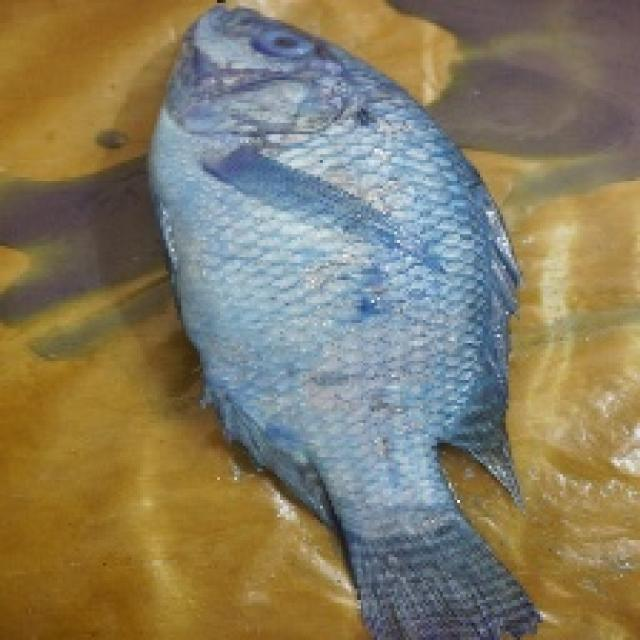Non-Fresh: (170, 79, 469, 432), (250, 20, 323, 68)
